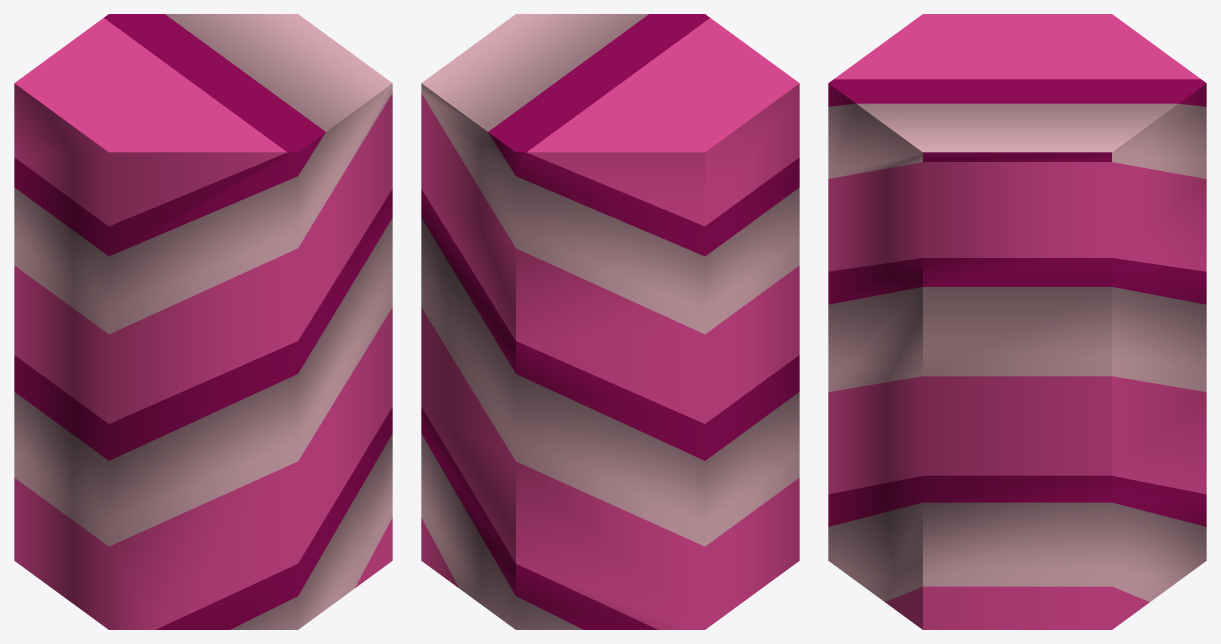
File: Sweets_farm.fbx
3 renders of one model, left to right at view 1: azimuth 30°, elevation 25°; view 2: azimuth 150°, elevation 25°; view 3: azimuth 270°, elevation 25°, orthographic.
Parts seen in each view (by area): view 1: Cylinder.002; view 2: Cylinder.002; view 3: Cylinder.002.
Part boxes in pixels (box(x1,y1,x2,y2)): Cylinder.002: box(14, 14, 392, 629); Cylinder.002: box(421, 14, 799, 629); Cylinder.002: box(828, 14, 1206, 629).
Size of the model in its own units: 0.3998 by 0.4616 by 0.6429.
